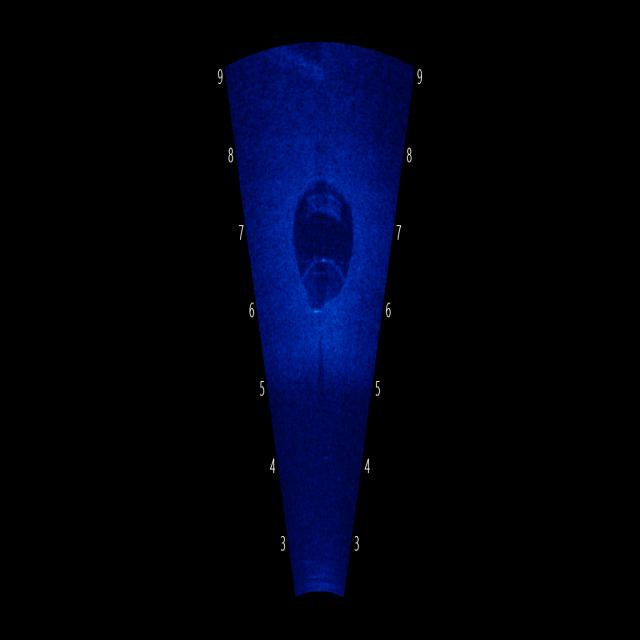circle: (278, 147, 364, 332)
